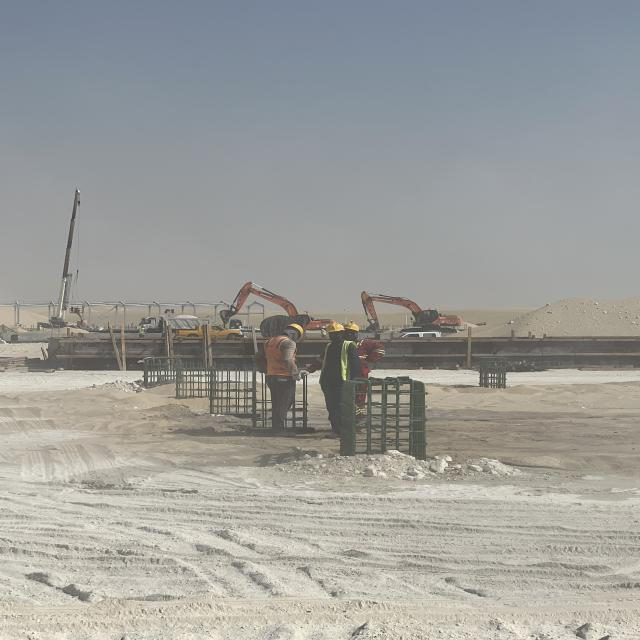excavator: (218, 279, 345, 343), (355, 284, 460, 340)
